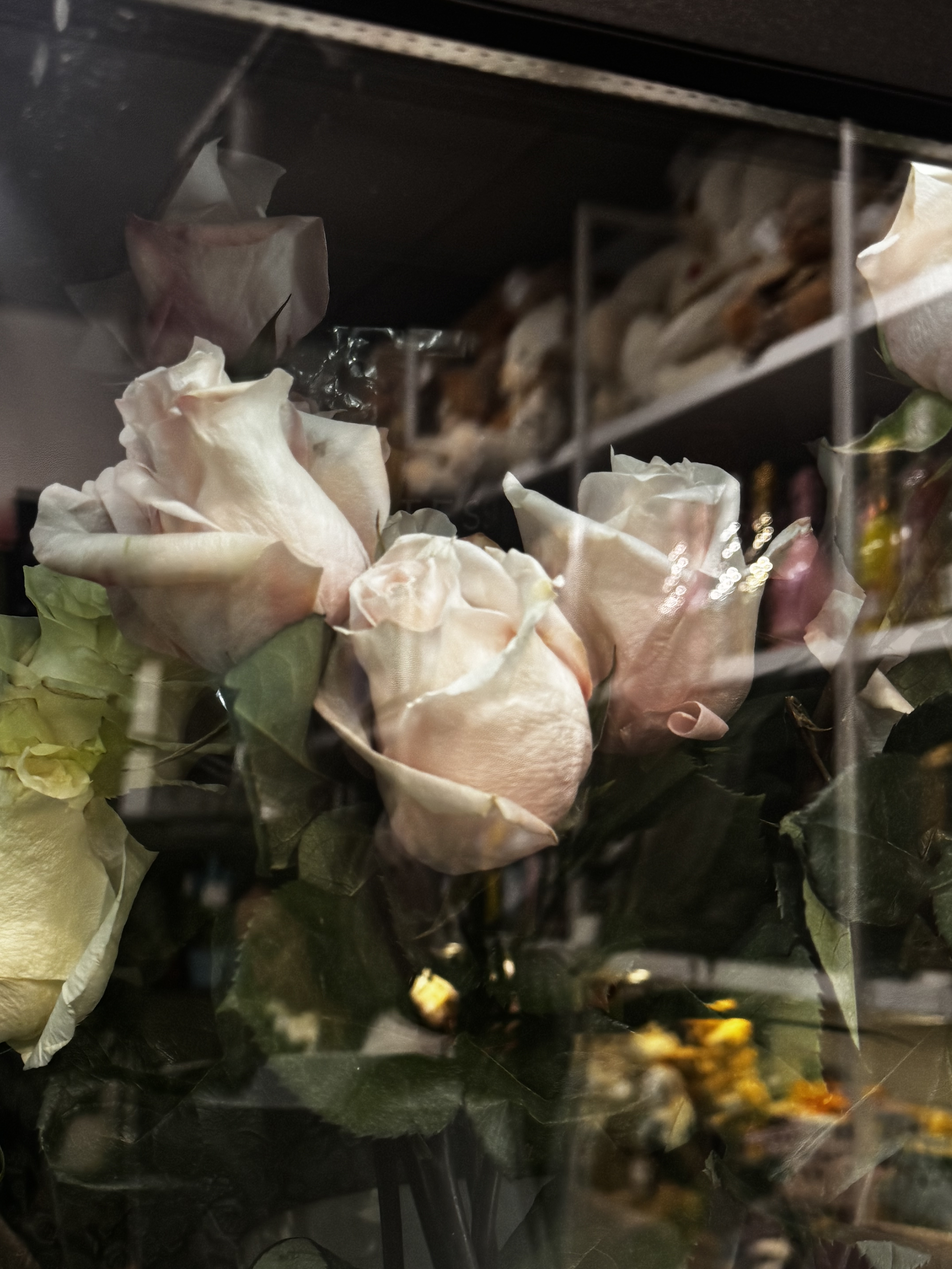rose: (15, 343, 400, 680), (327, 531, 605, 862), (509, 424, 776, 749), (0, 591, 182, 1057), (116, 148, 359, 381)
